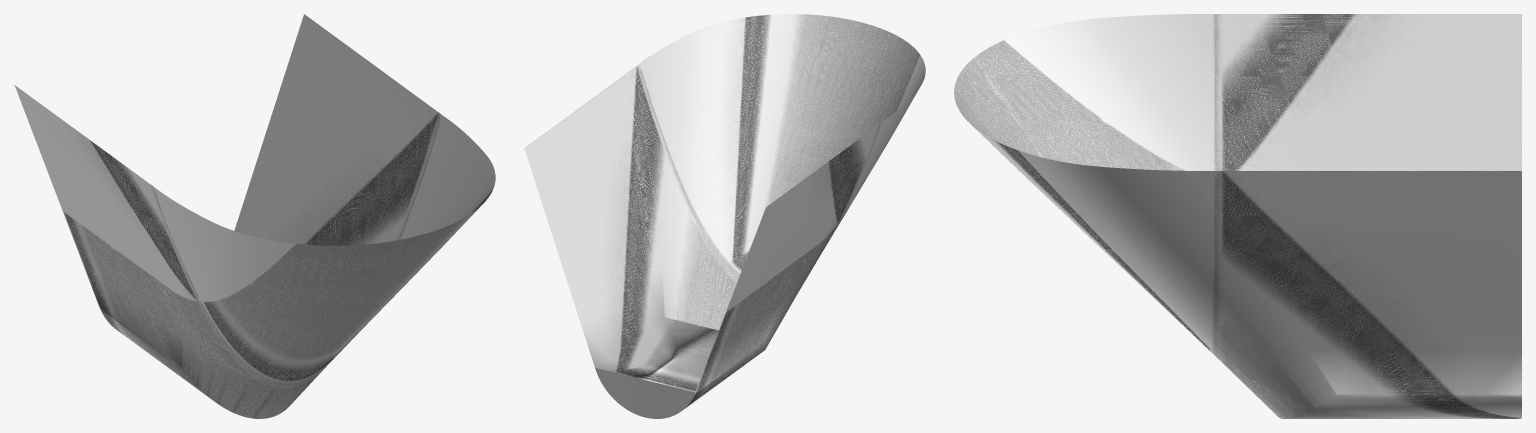
The model's file is original-7.obj.
The picture shows the model from 3 angles, left to right: view 1: azimuth 30°, elevation 25°; view 2: azimuth 150°, elevation 25°; view 3: azimuth 270°, elevation 25°; orthographic projection. The views are drawn at different scales.
Visible parts, largest first — view 1: Component_2_1/Component_2/mesh5/mesh5-geometry#mesh5-geometry; view 2: Component_2_1/Component_2/mesh5/mesh5-geometry#mesh5-geometry; view 3: Component_2_1/Component_2/mesh5/mesh5-geometry#mesh5-geometry.
Boxes of the visible parts, x1,y1,x2,y2 form: Component_2_1/Component_2/mesh5/mesh5-geometry#mesh5-geometry: (14, 14, 495, 418); Component_2_1/Component_2/mesh5/mesh5-geometry#mesh5-geometry: (524, 14, 925, 418); Component_2_1/Component_2/mesh5/mesh5-geometry#mesh5-geometry: (954, 14, 1521, 418).
Size of the model in its own units: 1.04 by 0.984 by 1.59.
